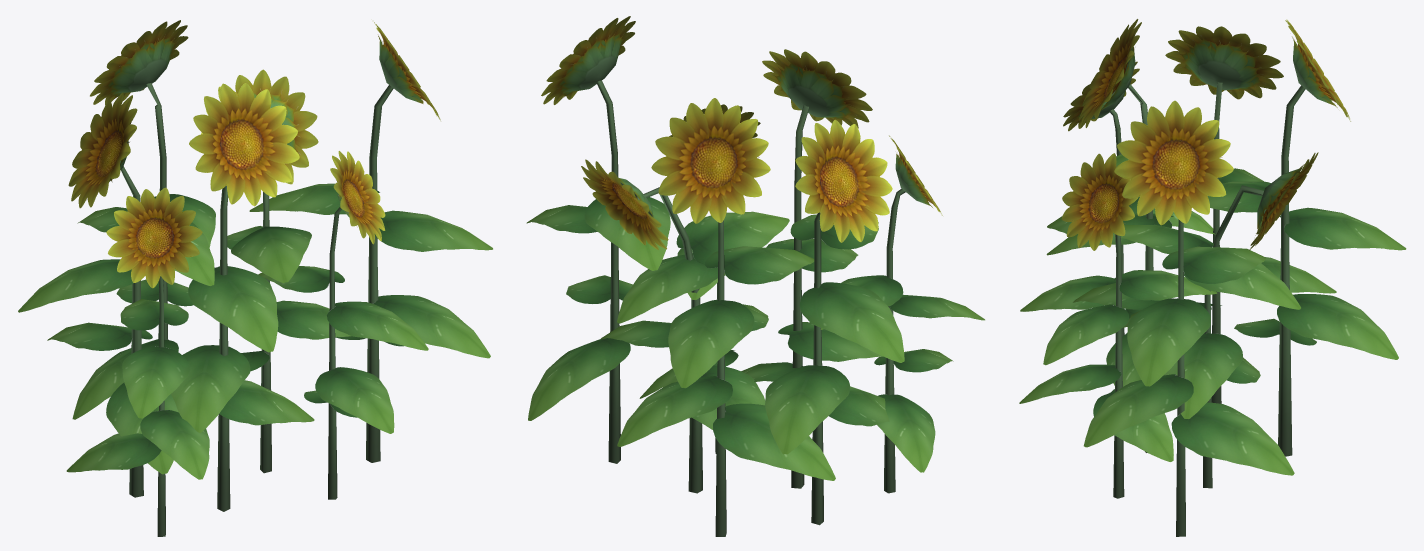
Rendered from xiangrikui_Forest_X01.FBX.
3 views of the same model, side by side, from view 1: azimuth 30°, elevation 25°; view 2: azimuth 150°, elevation 25°; view 3: azimuth 270°, elevation 25° (orthographic).
Visible parts, largest first — view 1: xiangrikui_Forest_X01; view 2: xiangrikui_Forest_X01; view 3: xiangrikui_Forest_X01.
Part boxes in pixels (left/top/right/bottom): xiangrikui_Forest_X01: left=18, top=20, right=492, bottom=536; xiangrikui_Forest_X01: left=526, top=16, right=984, bottom=536; xiangrikui_Forest_X01: left=1019, top=19, right=1406, bottom=536.
Bounding box in the file's own units: 296 × 290 × 236.
